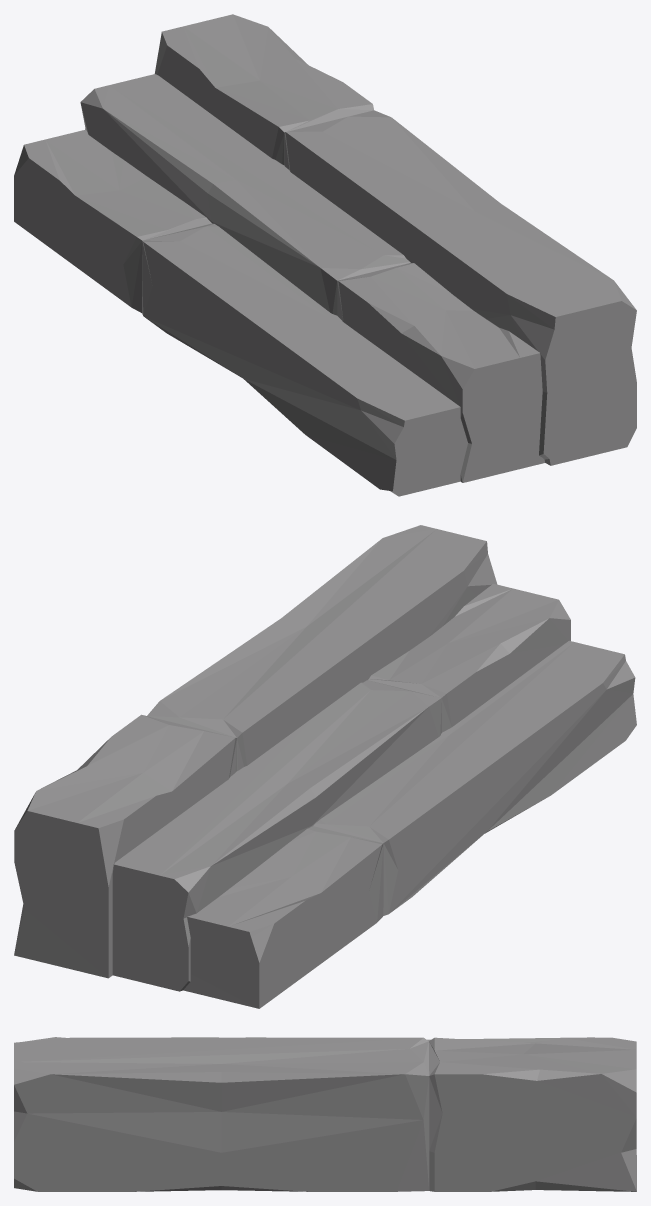
The model's file is SFV_Wall_Support_Rock_Stair.fbx.
3 renders of one model, top to bottom at view 1: azimuth 30°, elevation 25°; view 2: azimuth 150°, elevation 25°; view 3: azimuth 270°, elevation 25°, orthographic. The views are drawn at different scales.
Visible parts, largest first — view 1: SFV_Wall_Support_Rock_Stair; view 2: SFV_Wall_Support_Rock_Stair; view 3: SFV_Wall_Support_Rock_Stair.
Part boxes in pixels (box(x1,y1,x2,y2)): SFV_Wall_Support_Rock_Stair: box(14, 14, 636, 496); SFV_Wall_Support_Rock_Stair: box(14, 525, 636, 1008); SFV_Wall_Support_Rock_Stair: box(14, 1037, 636, 1191).
Size of the model in its own units: 65.03 by 38.56 by 185.
